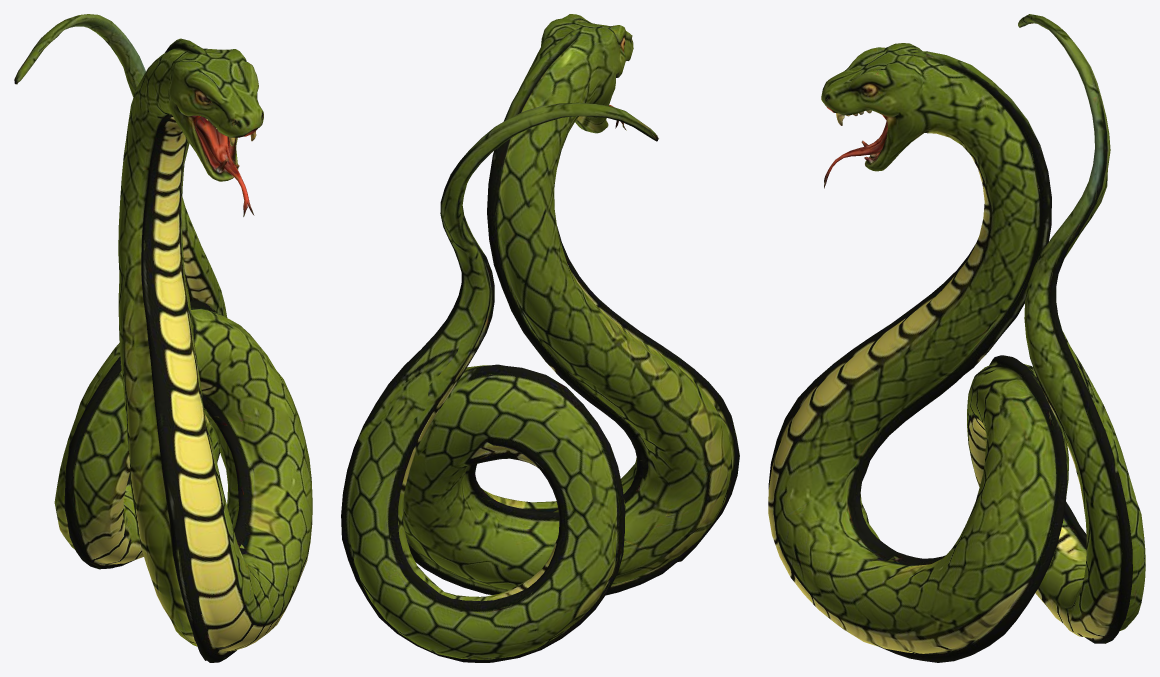
The model's file is serpente.glb.
3 renders of one model, left to right at view 1: azimuth 30°, elevation 25°; view 2: azimuth 150°, elevation 25°; view 3: azimuth 270°, elevation 25°, orthographic.
Size of the model in its own units: 0.4707 by 0.9517 by 0.5562.
1 material, 1 textured.
